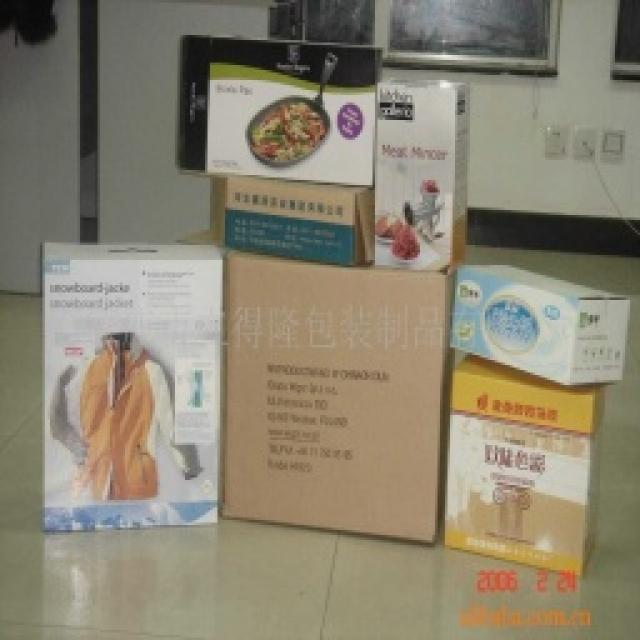box: (225, 245, 450, 554), (40, 242, 230, 532), (454, 354, 616, 584), (203, 45, 376, 185), (455, 260, 640, 388), (381, 72, 476, 265), (213, 171, 374, 263)
